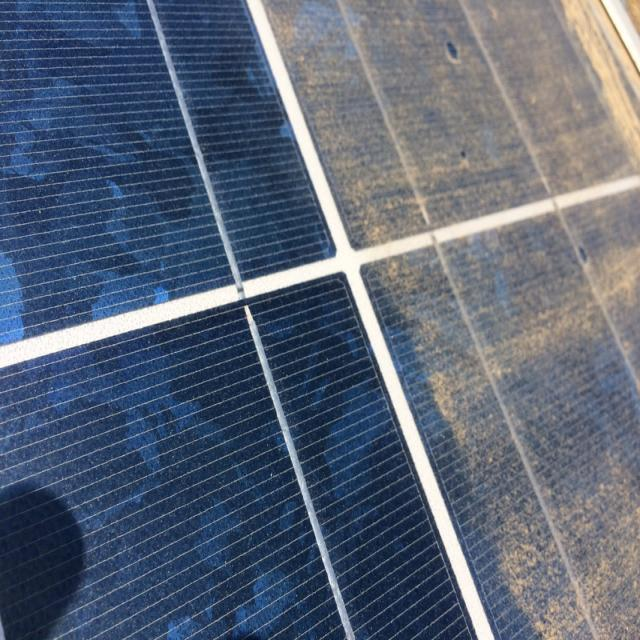no faulty: (4, 5, 476, 640)
